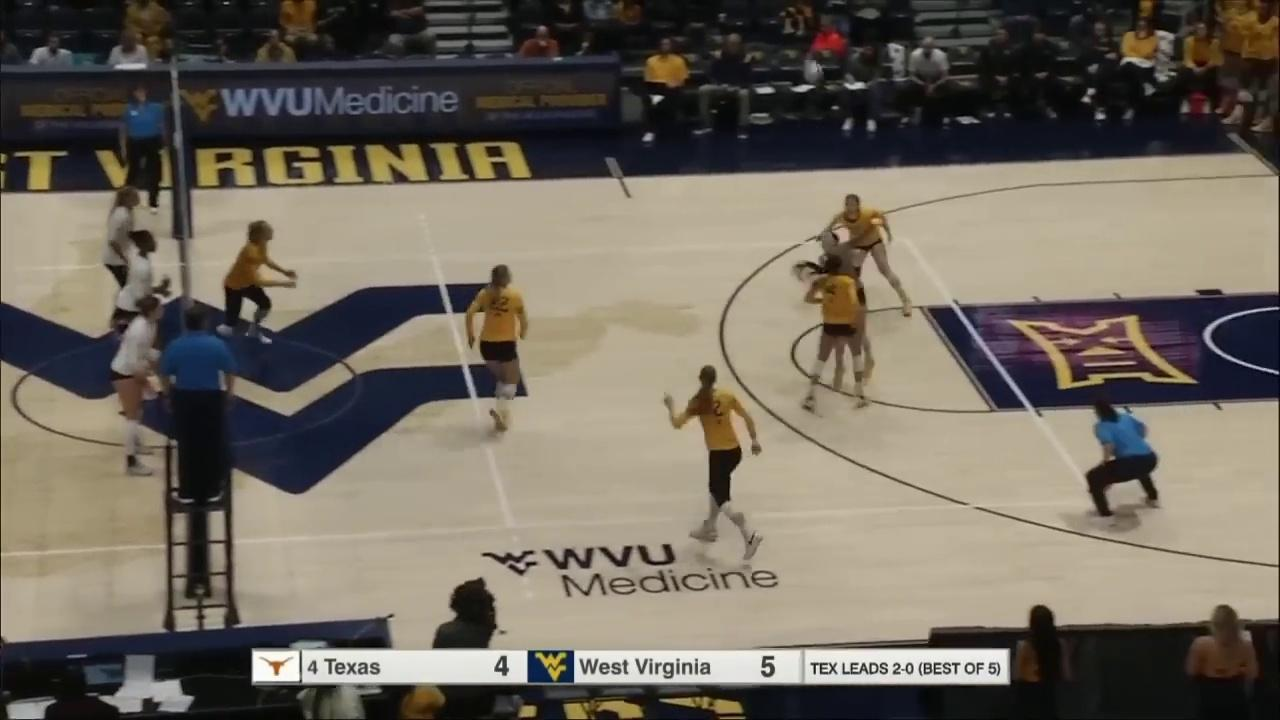player: (666, 366, 765, 563), (817, 193, 914, 317), (805, 217, 875, 385), (798, 254, 872, 410), (466, 263, 530, 436), (109, 294, 169, 477), (215, 220, 298, 340), (117, 230, 170, 395), (104, 185, 151, 327)
refree: (163, 305, 235, 501), (1085, 401, 1163, 524), (113, 83, 168, 215)
